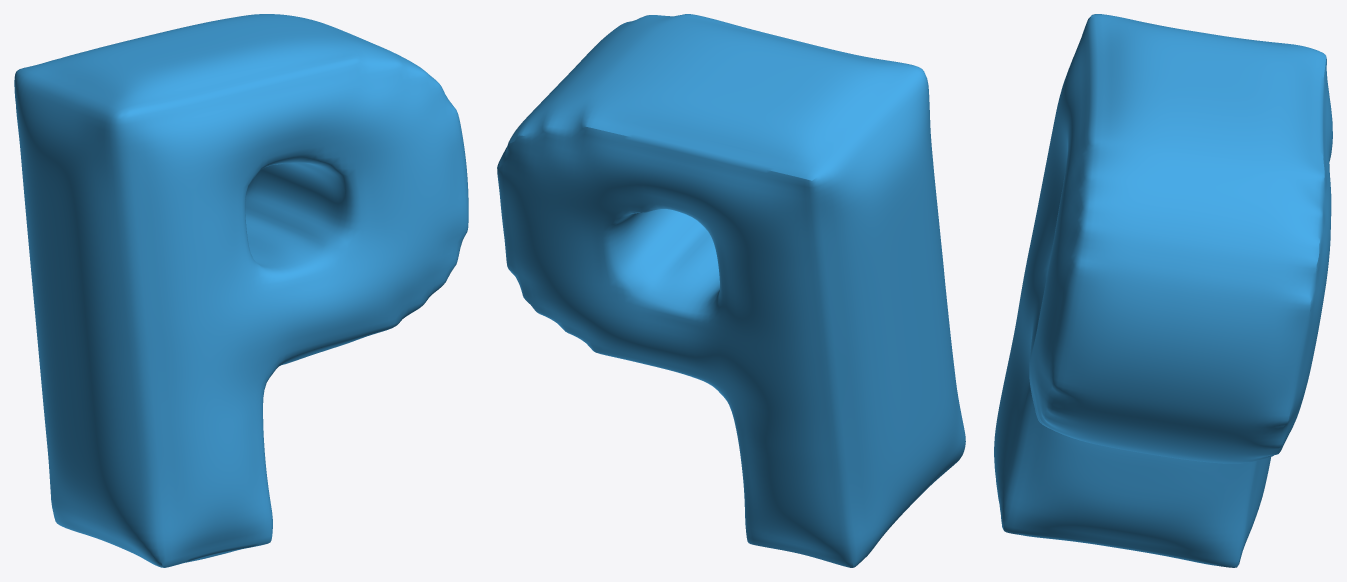
The model's file is LetraP.gltf.
3 views of the same model, side by side, from view 1: azimuth 30°, elevation 25°; view 2: azimuth 150°, elevation 25°; view 3: azimuth 270°, elevation 25° (orthographic). The views are drawn at different scales.
Visible parts, largest first — view 1: P; view 2: P; view 3: P.
Boxes of the visible parts, bbox=[...] form: P: bbox=[14, 14, 468, 567]; P: bbox=[497, 14, 965, 567]; P: bbox=[994, 14, 1332, 567].
Bounding box in the file's own units: 0.7513 × 0.9158 × 0.5509.
